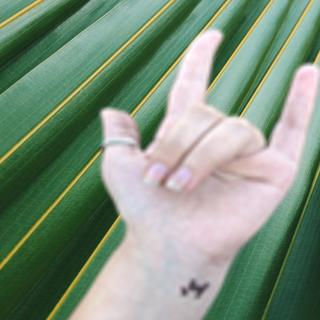ILY: (93, 24, 320, 259)
